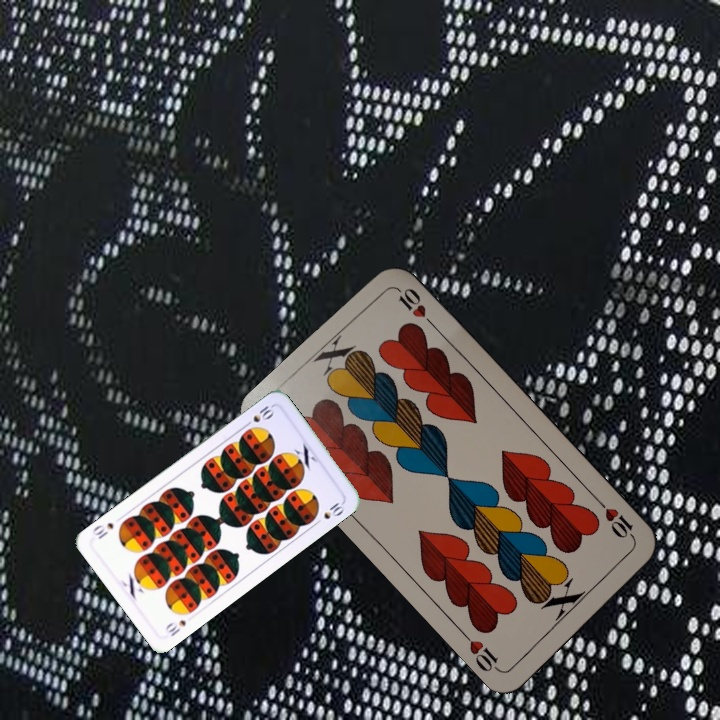H10: (594, 497, 639, 545)
S10: (240, 401, 277, 430), (161, 616, 189, 639)
